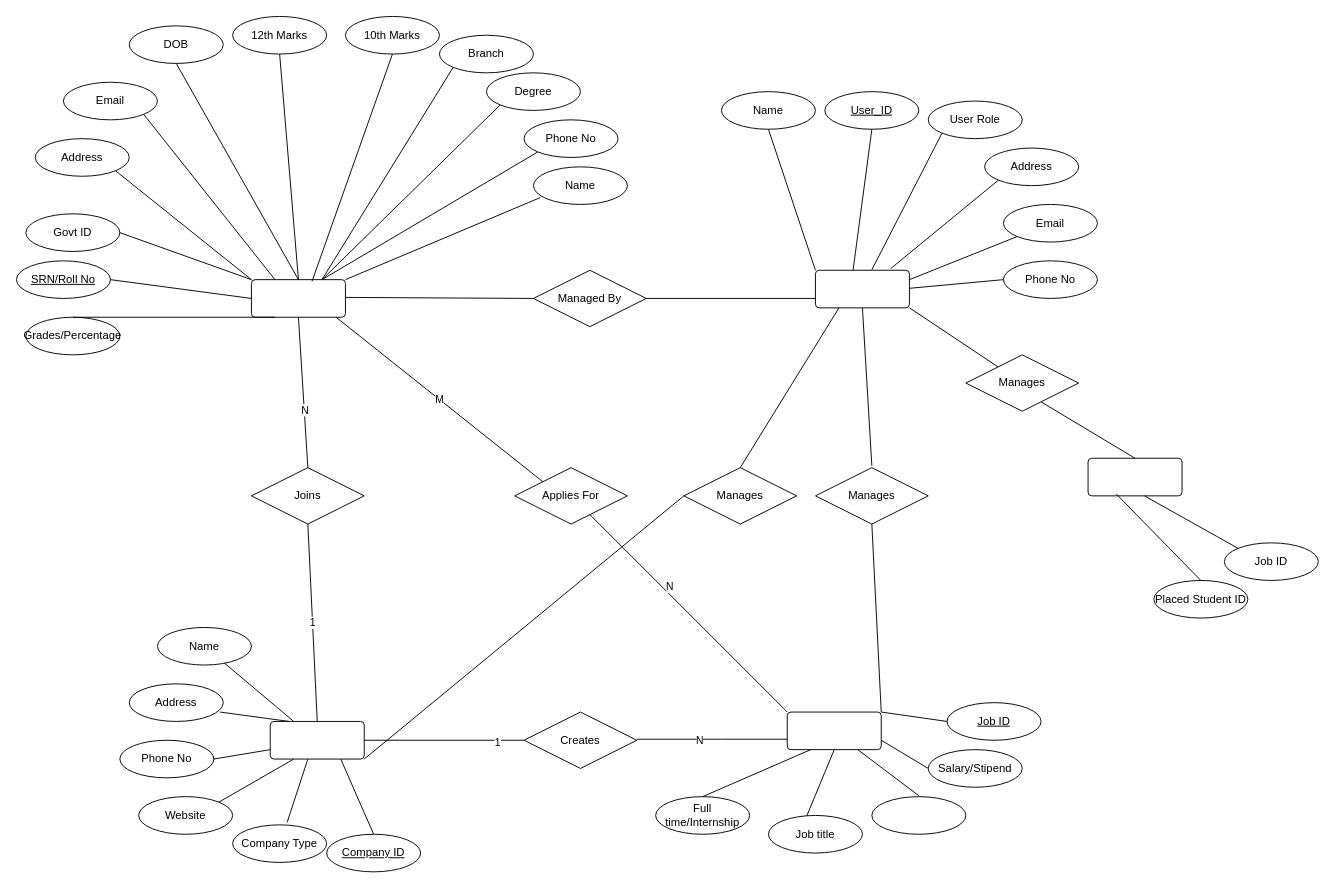
The diagram is 1335 pixels wide and 888 high, and some of its shapes have lost their labels. Here are the shapes that lost their labels. From the top down, the box of each, then its label:
(251, 279, 345, 317): Student
(815, 269, 909, 308): User
(1087, 457, 1182, 496): Placements
(269, 721, 364, 759): Company
(786, 711, 881, 750): Job
(871, 796, 966, 834): Job Description
